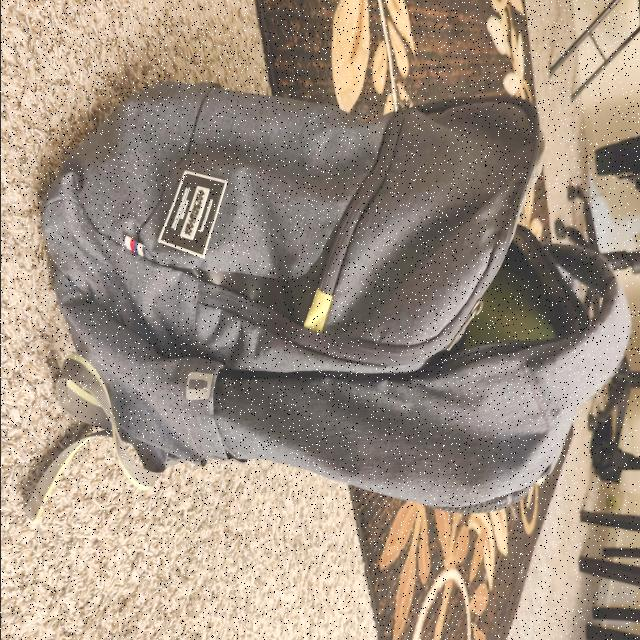bag: (45, 83, 623, 503)
